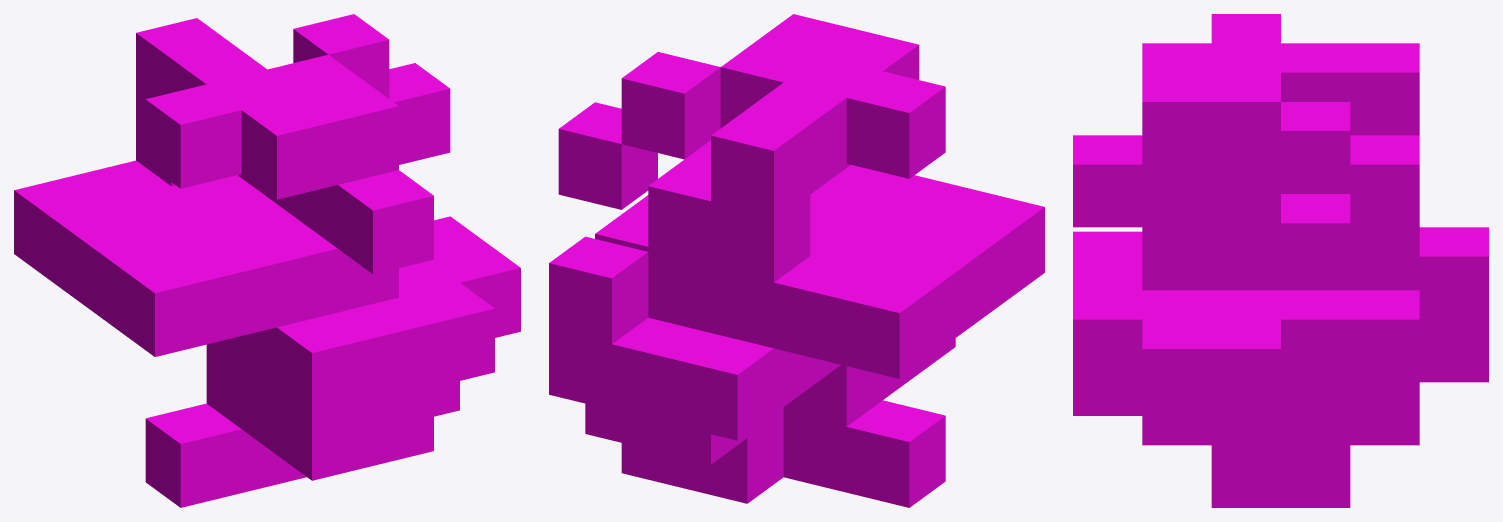
Rendered from luz-6a.obj.
3 views of the same model, side by side, from view 1: azimuth 30°, elevation 25°; view 2: azimuth 150°, elevation 25°; view 3: azimuth 270°, elevation 25° (orthographic). The views are drawn at different scales.
Size of the model in its own units: 0.6 by 0.6 by 0.6.
1 material, 1 textured.
